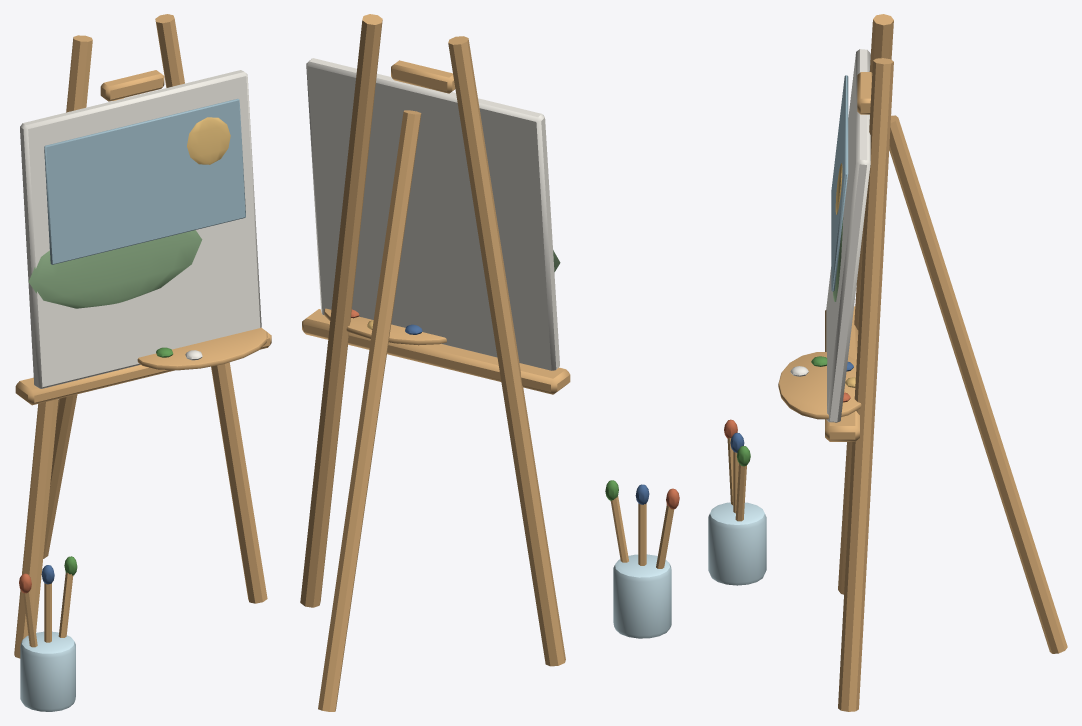
File: easel.glb
The picture shows the model from 3 angles, left to right: view 1: azimuth 30°, elevation 25°; view 2: azimuth 150°, elevation 25°; view 3: azimuth 270°, elevation 25°; orthographic projection. The views are drawn at different scales.
Parts seen in each view (by area): view 1: sheet, poster_a, pine, poster_b, glass, poster_c; view 2: sheet, pine, glass; view 3: pine, sheet, glass, poster_a.
Boxes of the visible parts, bbox=[...] form: sheet: bbox=[20, 70, 261, 388]; poster_a: bbox=[44, 98, 245, 264]; pine: bbox=[14, 14, 271, 658]; poster_b: bbox=[28, 230, 202, 308]; glass: bbox=[20, 631, 75, 711]; poster_c: bbox=[187, 117, 230, 164]; sheet: bbox=[306, 58, 559, 370]; pine: bbox=[300, 14, 674, 711]; glass: bbox=[613, 554, 671, 638]; pine: bbox=[727, 14, 1067, 711]; sheet: bbox=[790, 49, 870, 422]; glass: bbox=[708, 502, 766, 585]; poster_a: bbox=[831, 75, 848, 291].
Bounding box in the file's own units: 0.6228 × 1.16 × 0.6154.
